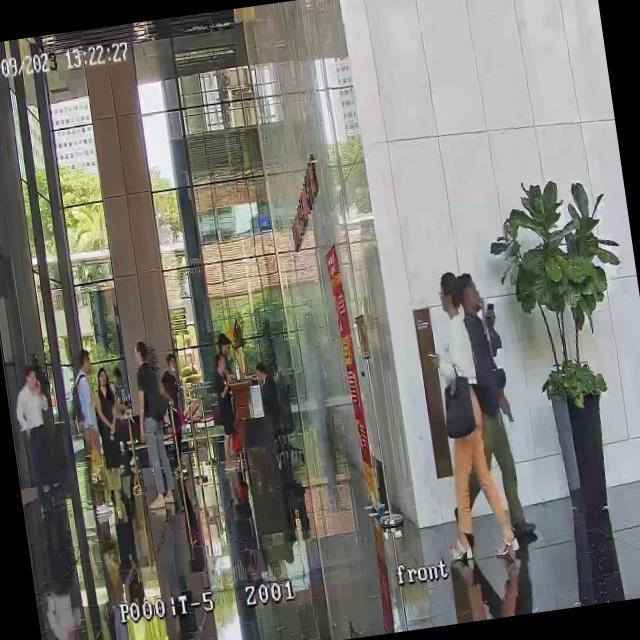person: (412, 267, 522, 570), (456, 268, 538, 542), (128, 338, 180, 510), (68, 348, 115, 528), (90, 365, 136, 525), (9, 361, 62, 496), (206, 351, 244, 473), (157, 351, 194, 473), (158, 352, 185, 414)
